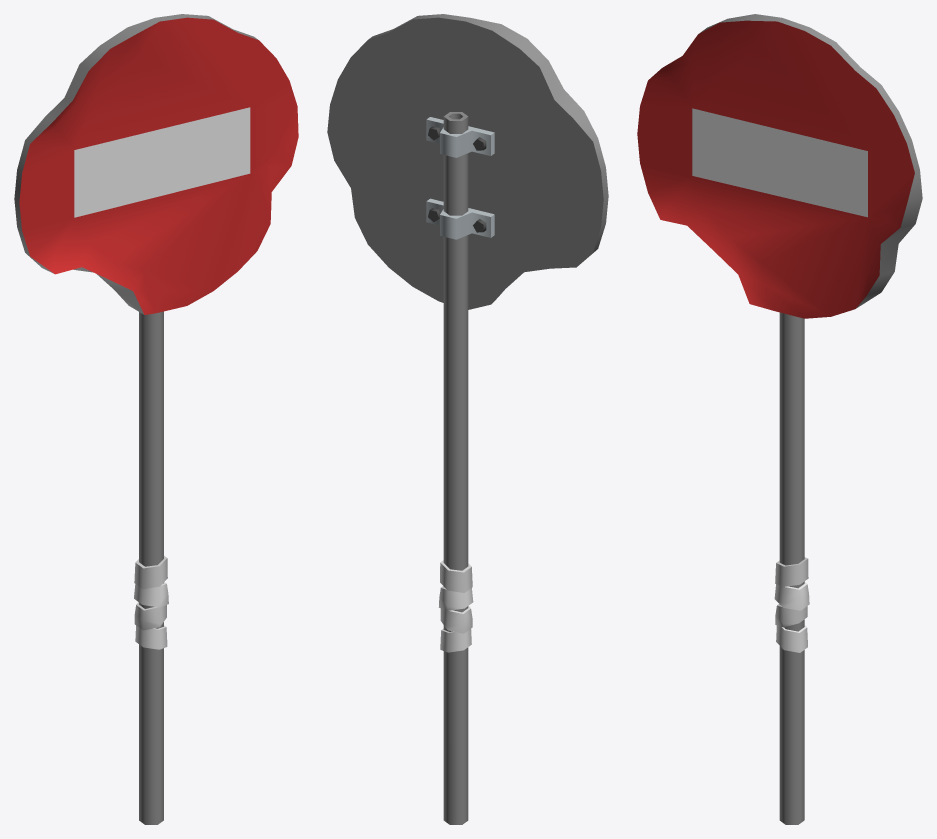
The model's file is SM_road_sign_001.obj.
The picture shows the model from 3 angles, left to right: view 1: azimuth 30°, elevation 25°; view 2: azimuth 150°, elevation 25°; view 3: azimuth 330°, elevation 25°; orthographic projection.
Parts seen in each view (by area): view 1: SM_road_sign_001_M_Material; view 2: SM_road_sign_001_M_Material; view 3: SM_road_sign_001_M_Material.
Boxes of the visible parts, <box> form: SM_road_sign_001_M_Material: <box>14,14,298,824</box>; SM_road_sign_001_M_Material: <box>327,14,608,824</box>; SM_road_sign_001_M_Material: <box>637,14,922,824</box>.
Size of the model in its own units: 0.6453 by 1.77 by 0.1061.
